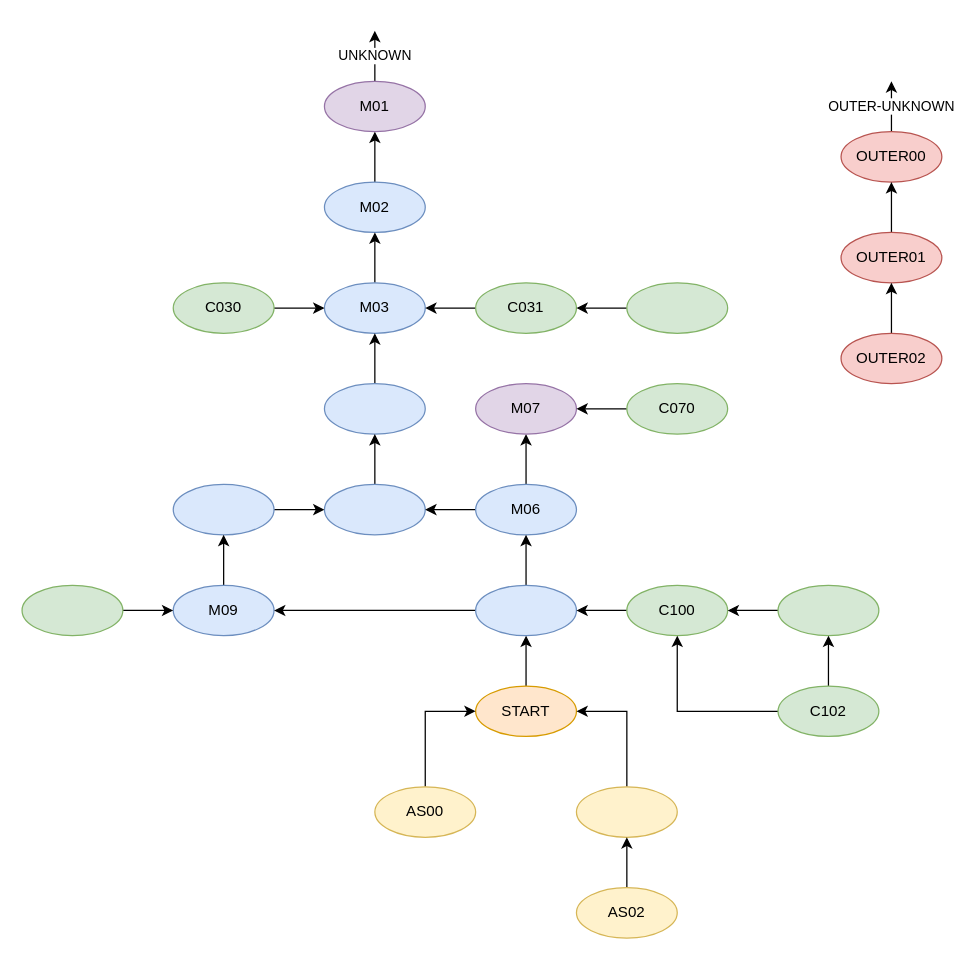
This 977x960 diagram has some shape labels left out. The shapes that lost their labels are listed below. From the top down, each one's centre as x and y in pixels, then its label:
(677,307): C032
(374,408): M04
(223,509): M08
(374,509): M05
(72,610): C090
(525,610): M10
(828,610): C101
(626,811): AS01
